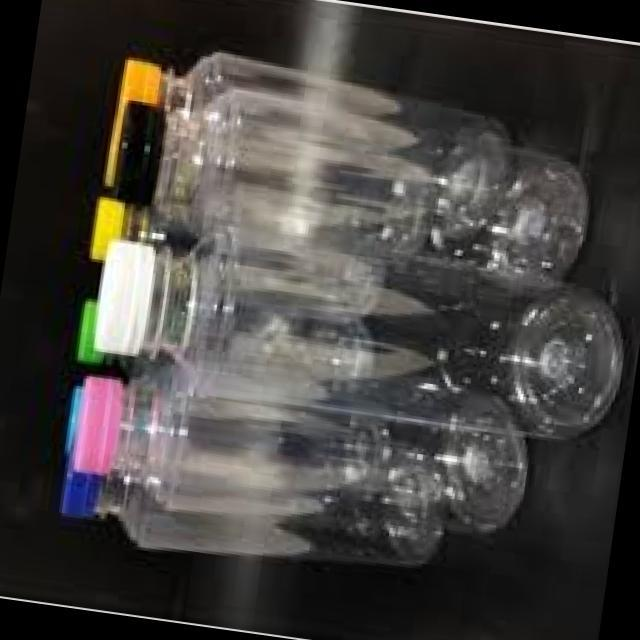good: (91, 211, 629, 459), (99, 22, 602, 283), (59, 365, 580, 570), (39, 440, 473, 582)
